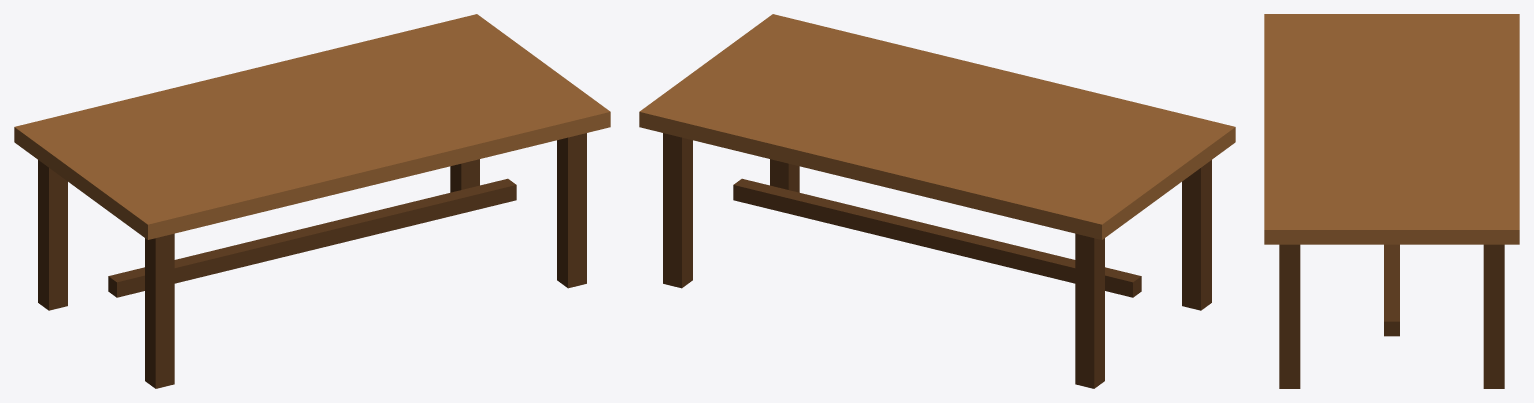
File: mod_table.glb
3 views of the same model, side by side, from view 1: azimuth 30°, elevation 25°; view 2: azimuth 150°, elevation 25°; view 3: azimuth 270°, elevation 25° (orthographic). The views are drawn at different scales.
Visible parts, largest first — view 1: Mod_Table; view 2: Mod_Table; view 3: Mod_Table.
Boxes of the visible parts, box(x1,y1,x2,y2) form: Mod_Table: box(14, 14, 610, 388); Mod_Table: box(639, 14, 1235, 388); Mod_Table: box(1264, 14, 1519, 388).
Size of the model in its own units: 2.2 by 0.79 by 1.1.
